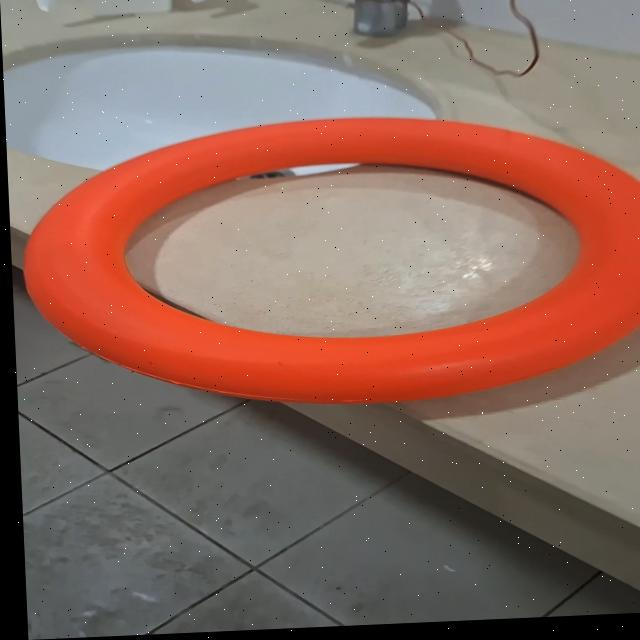note: (14, 109, 640, 420)
